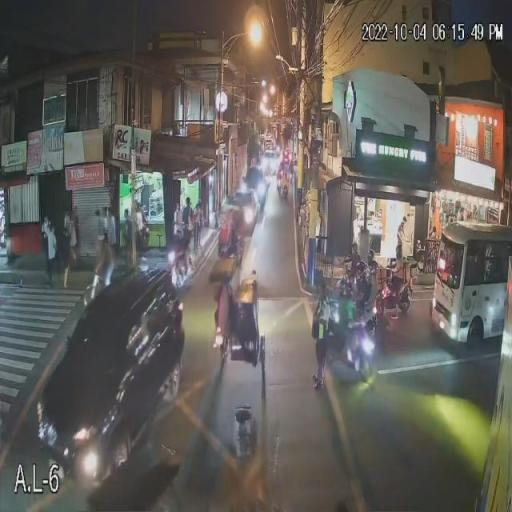helmet: (355, 262, 367, 280), (394, 244, 403, 259)
motorcycle: (214, 258, 262, 368), (338, 286, 378, 382), (374, 260, 412, 323), (166, 234, 194, 288)
rider: (343, 261, 375, 326), (386, 257, 406, 322), (170, 202, 192, 252), (218, 213, 239, 263)
